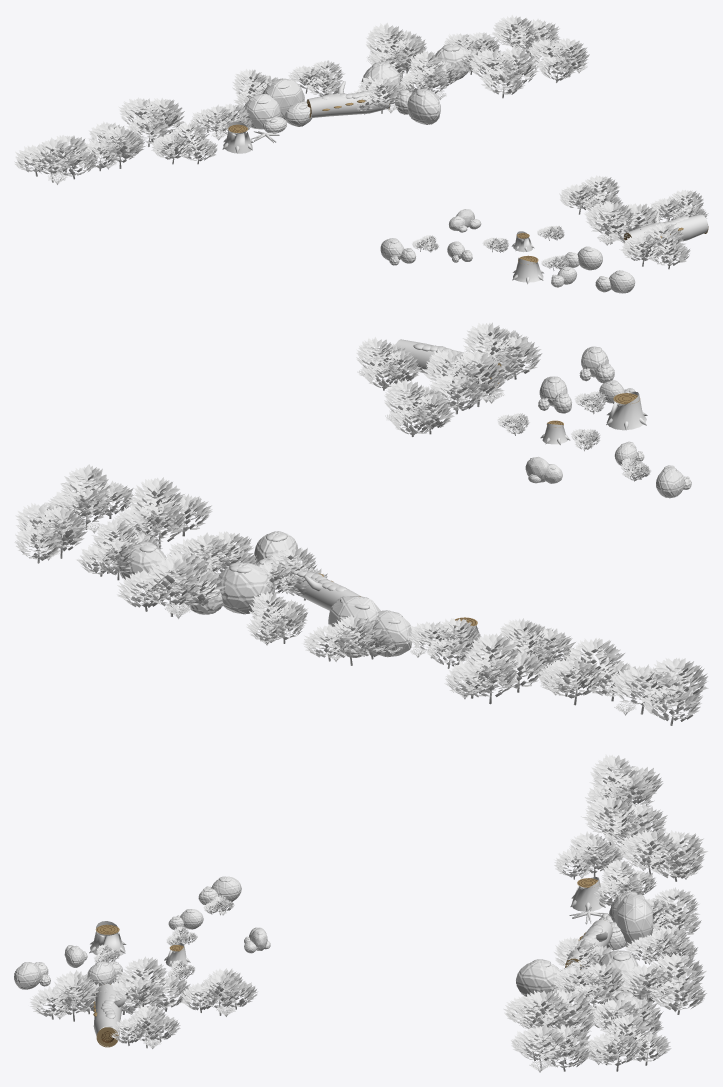
The model's file is SM_NW_Nature_2_3_Macro.fbx.
The picture shows the model from 3 angles, top to bottom: view 1: azimuth 30°, elevation 25°; view 2: azimuth 150°, elevation 25°; view 3: azimuth 270°, elevation 25°; orthographic projection. The views are drawn at different scales.
Visible parts, largest first — view 1: SM_NW_Nature_2_3_Macro; view 2: SM_NW_Nature_2_3_Macro; view 3: SM_NW_Nature_2_3_Macro.
Boxes of the visible parts, x1,y1,x2,y2 form: SM_NW_Nature_2_3_Macro: (14, 15, 708, 293); SM_NW_Nature_2_3_Macro: (14, 322, 708, 725); SM_NW_Nature_2_3_Macro: (14, 754, 707, 1072).
Size of the model in its own units: 2702 by 2630 by 262.
